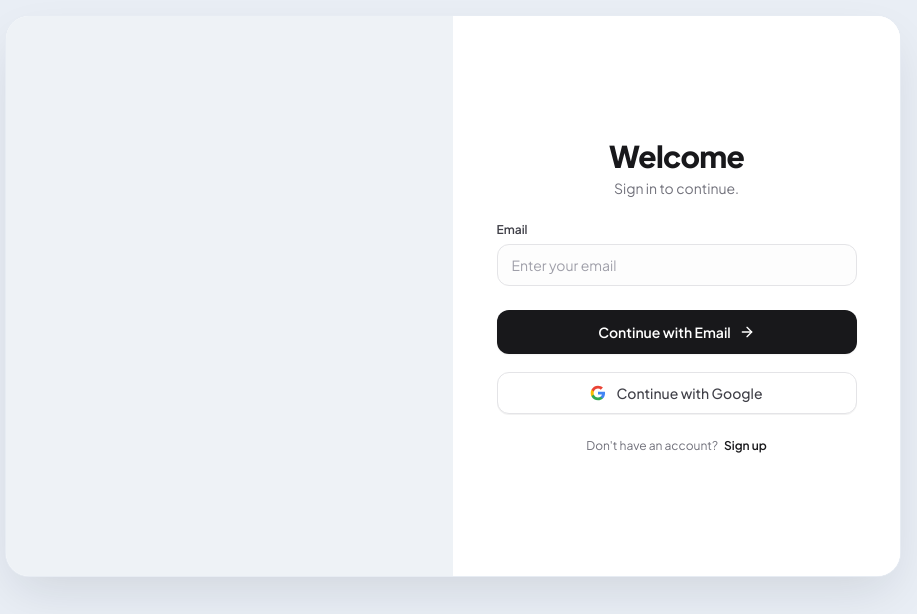
Scenario: LoginPage › does not fake a session when the email form is submitted
Click the button "Continue with Email" at (676, 332), box [496,310,856,354]
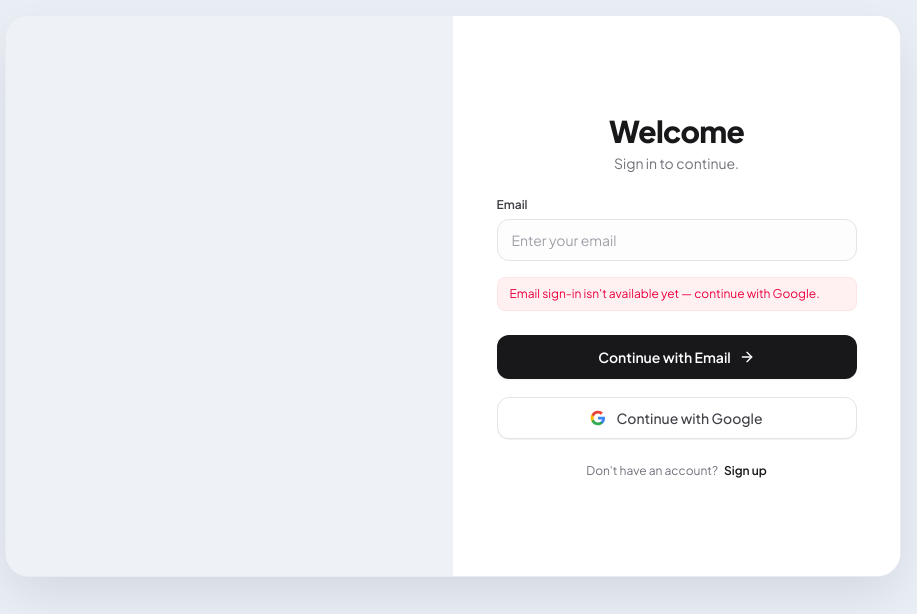
Expected: the message shows "isn't available yet", [510,286,820,301]
